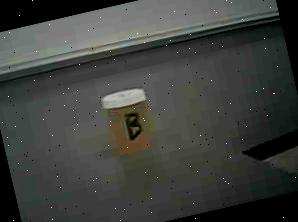Bottle B: (95, 80, 170, 165)
